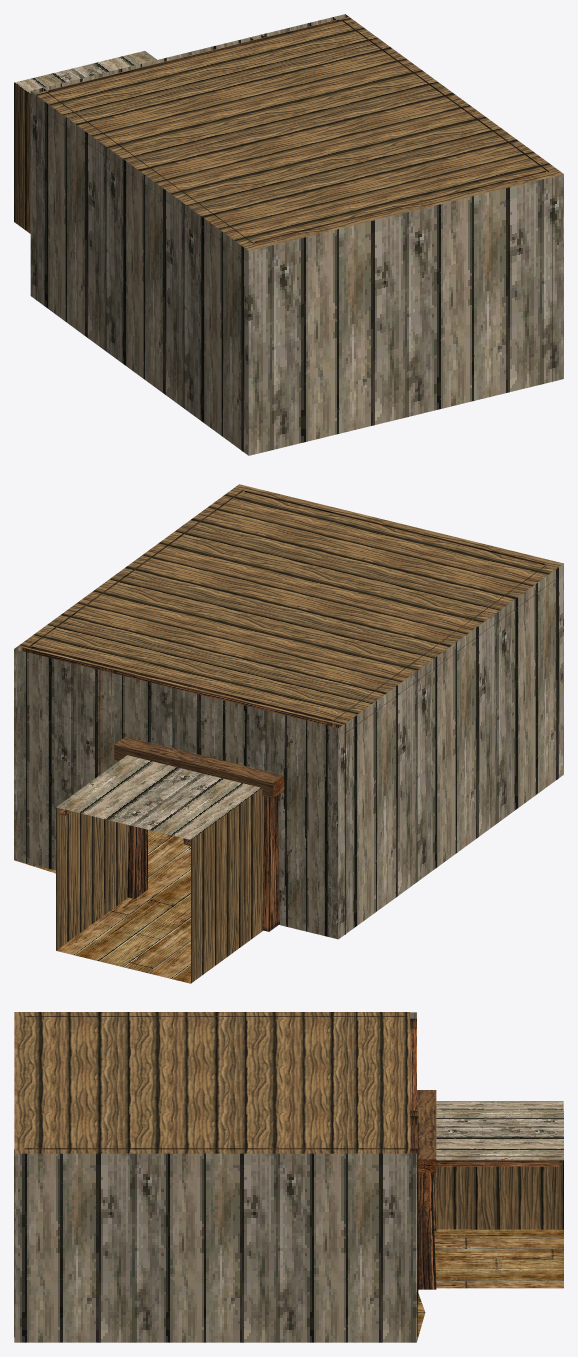
File: LAKETOWN_WAREHOUSE2_PS_WH2_SIDEROOM_99__GX.fbx
The picture shows the model from 3 angles, top to bottom: view 1: azimuth 30°, elevation 25°; view 2: azimuth 150°, elevation 25°; view 3: azimuth 270°, elevation 25°; orthographic projection. The views are drawn at different scales.
Parts seen in each view (by area): view 1: LAKETOWN_WAREHOUSE2_PS_WH2_SIDEROOM_99__GX; view 2: LAKETOWN_WAREHOUSE2_PS_WH2_SIDEROOM_99__GX; view 3: LAKETOWN_WAREHOUSE2_PS_WH2_SIDEROOM_99__GX.
Part boxes in pixels (x1,y1,x2,y2): LAKETOWN_WAREHOUSE2_PS_WH2_SIDEROOM_99__GX: (14,14,563,455); LAKETOWN_WAREHOUSE2_PS_WH2_SIDEROOM_99__GX: (14,484,563,983); LAKETOWN_WAREHOUSE2_PS_WH2_SIDEROOM_99__GX: (14,1012,563,1342).
Size of the model in its own units: 67110 by 41955 by 109936.
Materials: 9 (9 with a texture image).
